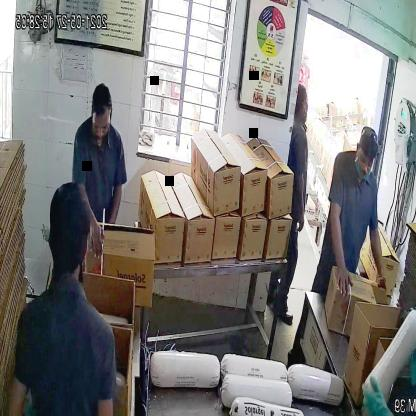no_goggles: (352, 151, 380, 170), (90, 119, 112, 136)
